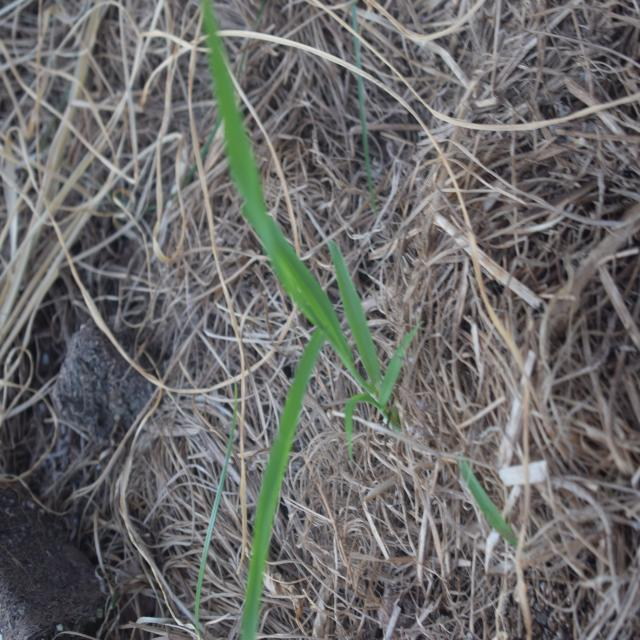crabgrass: (204, 14, 394, 536)
